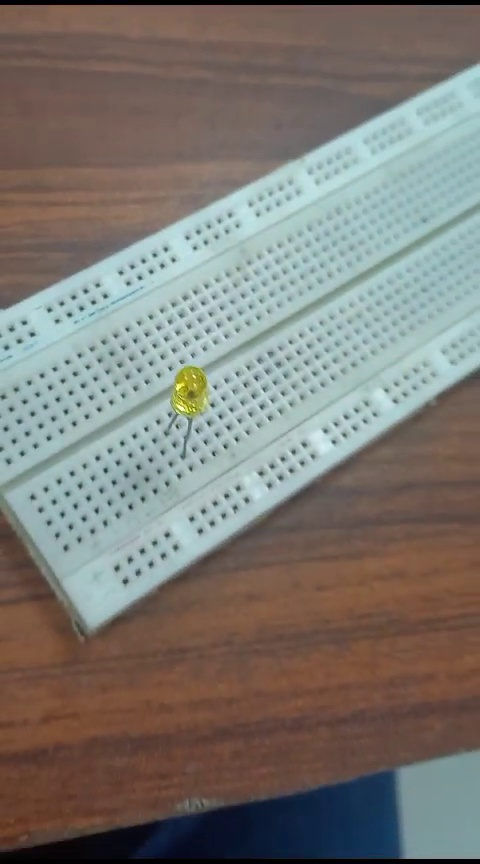LED: (154, 357, 206, 459)
